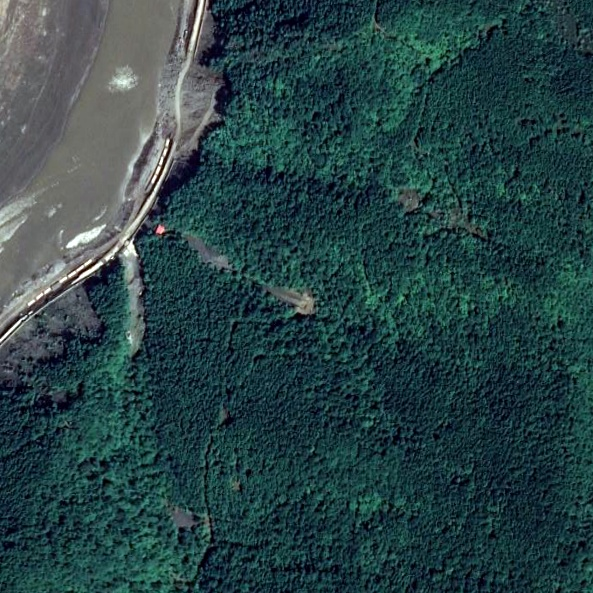slope: (170, 12, 223, 183), (118, 235, 148, 354), (263, 282, 316, 313)
